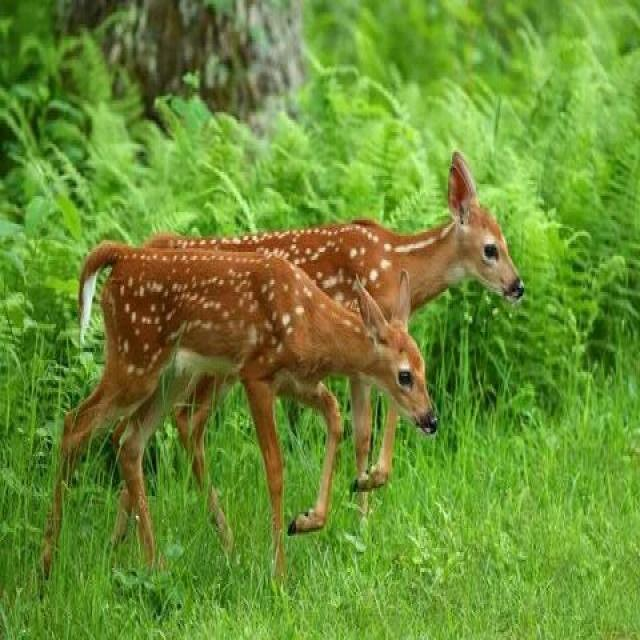deer: (59, 208, 468, 627), (80, 105, 540, 420)
